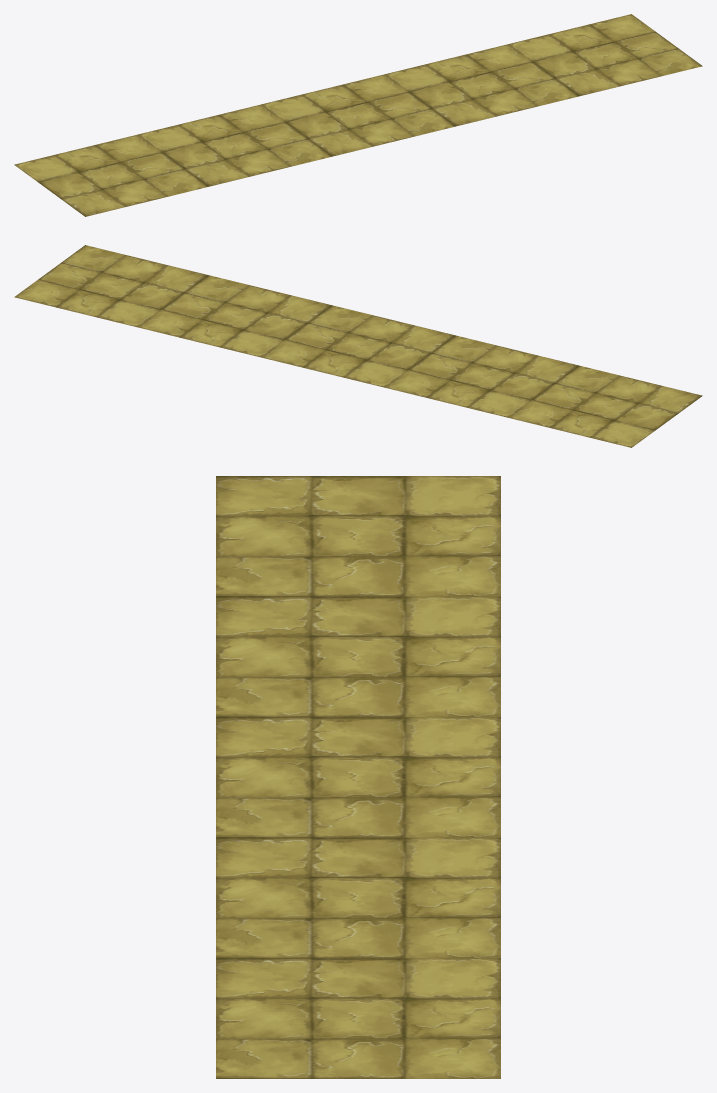
File: ScrollFloor.fbx
The picture shows the model from 3 angles, top to bottom: view 1: azimuth 30°, elevation 25°; view 2: azimuth 150°, elevation 25°; view 3: azimuth 270°, elevation 25°; orthographic projection. The views are drawn at different scales.
Visible parts, largest first — view 1: 平面.002; view 2: 平面.002; view 3: 平面.002.
Boxes of the visible parts, x1,y1,x2,y2 form: 平面.002: [14, 14, 702, 216]; 平面.002: [14, 245, 702, 447]; 平面.002: [216, 476, 500, 1078].
Size of the model in its own units: 3000 by 0.00036 by 600.
Materials: 1 (1 with a texture image).
